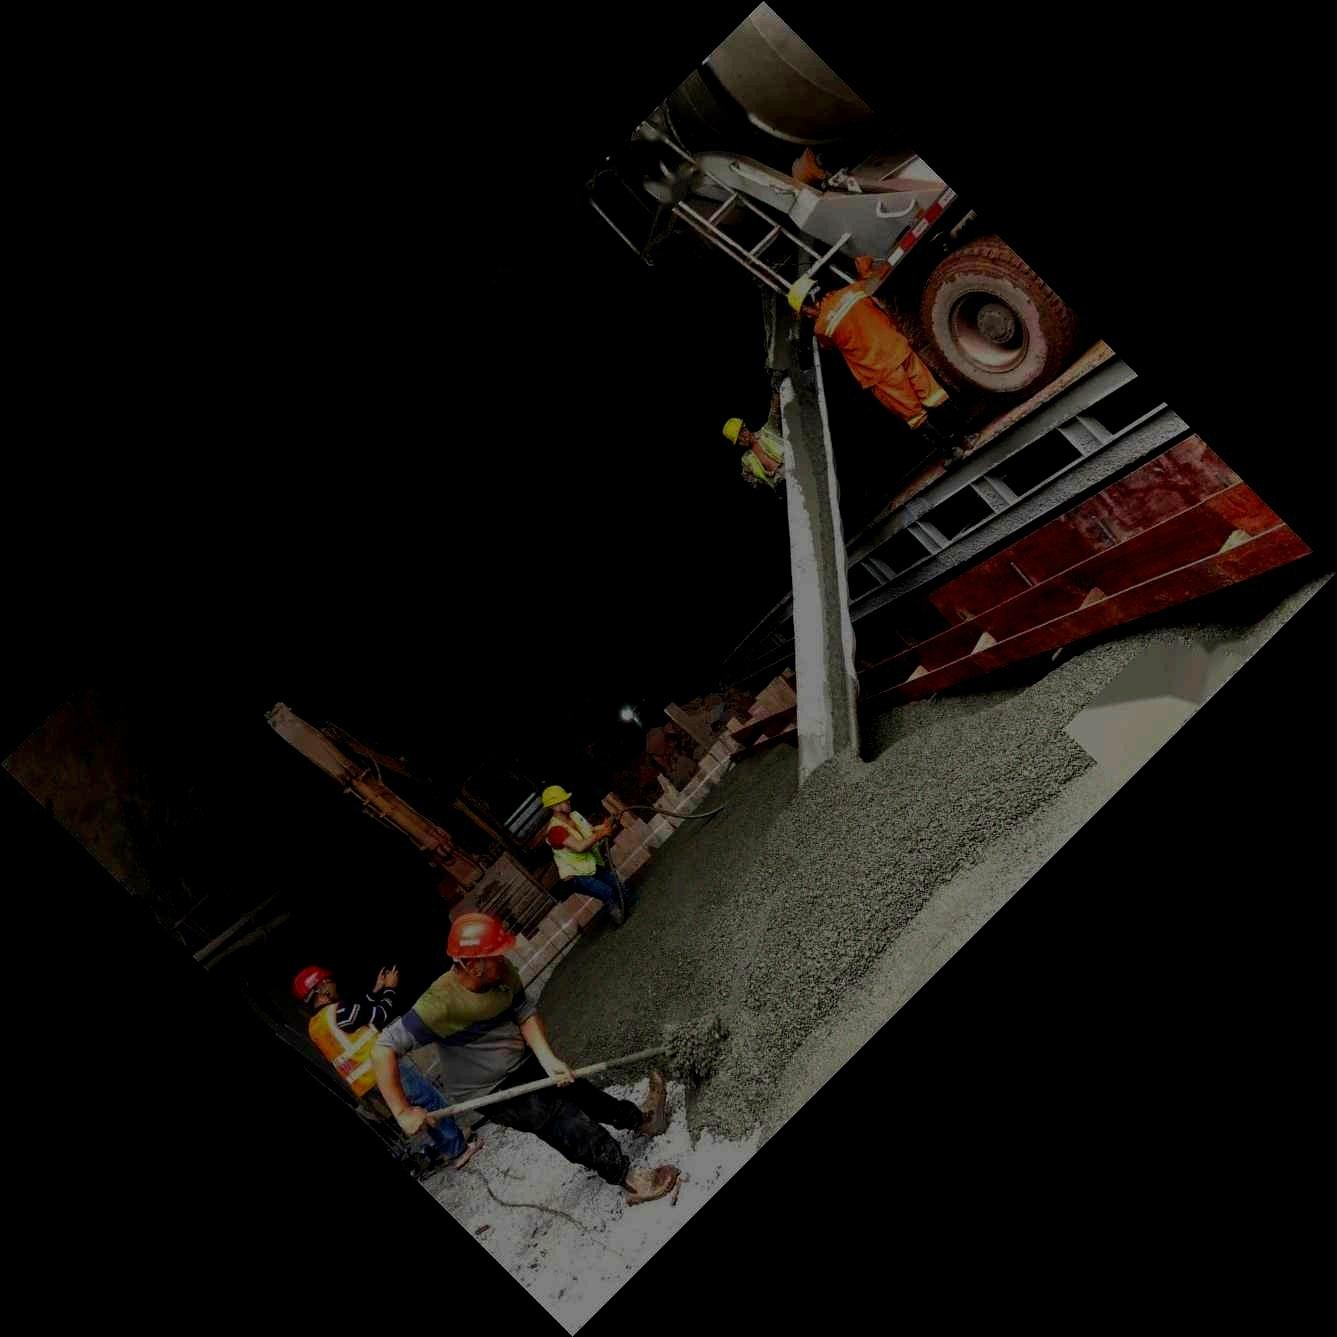helmet: (446, 911, 517, 986), (291, 966, 340, 1008), (787, 278, 826, 321), (722, 418, 751, 448), (542, 785, 573, 813)
